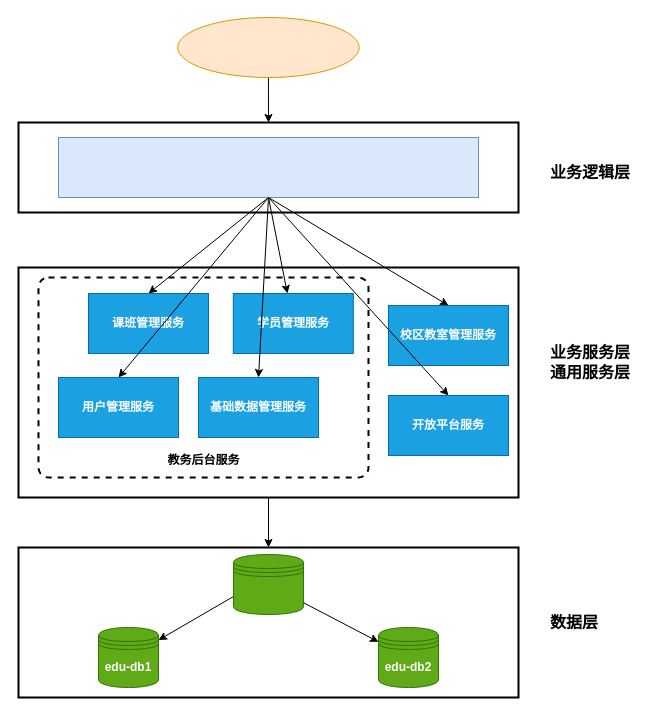
Some shapes in this 665 by 716 pixel diagram are drawn without their labels. The shapes that lost their labels are listed below. From the top down, each one's centre as x and y in pixels, then its label:
At (x=268, y=47): "browser".
At (x=268, y=167): "教室管理业务".
At (x=268, y=584): "edu-cache".
